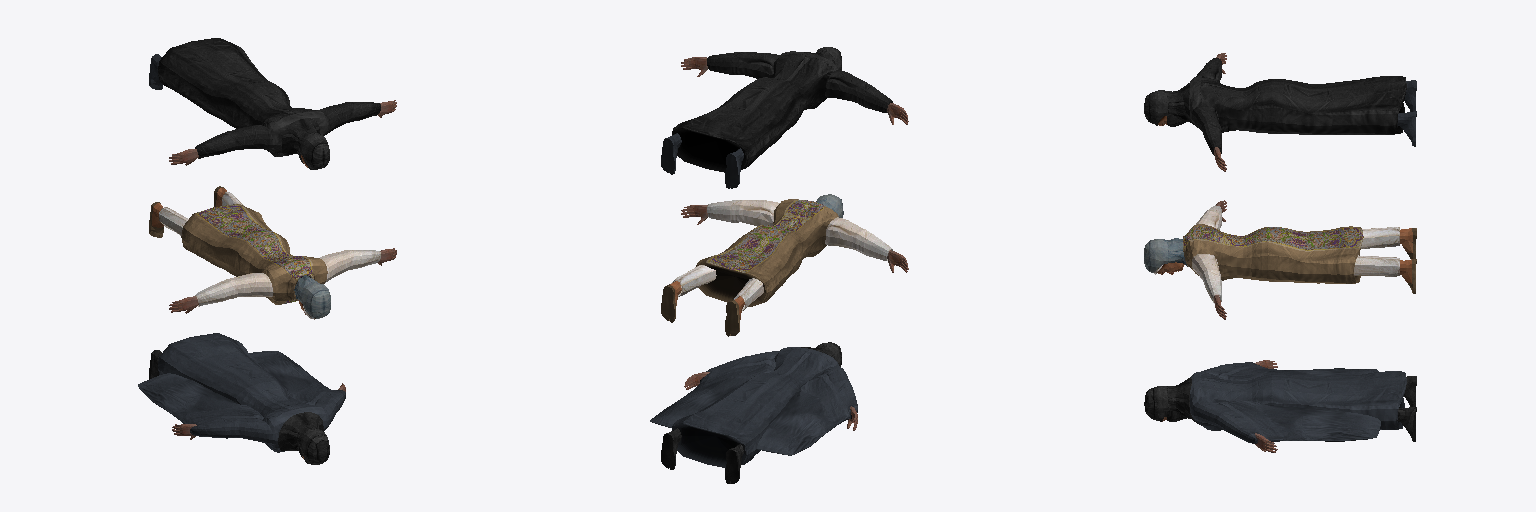
3 renders of one model, left to right at view 1: azimuth 30°, elevation 25°; view 2: azimuth 150°, elevation 25°; view 3: azimuth 270°, elevation 25°, orthographic.
Parts seen in each view (by area): view 1: Arab_Femx3_DressLonger_B_01_Arab_Fem_B_01, Arab_Femx3_Arab_Fem_C_01_BurkaArms_A_01, DressLong_A_01_Arab_Fem_A_01_Arab_Femx3, Arab_Femx3_DressLonger_B_01_Arab_Fem_C_01, Arab_Femx3_Arab_Fem_B_01_LongArms_A_02, Arab_Fem_A_01_Arab_Femx3_LongArms_A_02, Arab_Femx3_Arab_Fem_C_01_Head_Fem_Veil_C_01, Arab_Femx3_Arab_Fem_B_01_Head_Fem_Veil_A_01, Arab_Fem_A_01_Arab_Femx3_Head_Fem_Scarf_A_01, Arab_Fem_A_01_Arab_Femx3_Trouser_A_01, Arab_Fem_A_01_Arab_Femx3_Sandal_B_01, Arab_Fem_A_01_Arab_Femx3_Hands_C_02 (+1 smaller); view 2: Arab_Femx3_DressLonger_B_01_Arab_Fem_B_01, Arab_Femx3_DressLonger_B_01_Arab_Fem_C_01, Arab_Femx3_Arab_Fem_C_01_BurkaArms_A_01, DressLong_A_01_Arab_Fem_A_01_Arab_Femx3, Arab_Femx3_Arab_Fem_B_01_LongArms_A_02, Arab_Fem_A_01_Arab_Femx3_LongArms_A_02, Arab_Fem_A_01_Arab_Femx3_Trouser_A_01, Arab_Fem_A_01_Arab_Femx3_Sandal_B_01, Arab_Femx3_Arab_Fem_B_01_Sandal_C_01, Arab_Femx3_Arab_Fem_C_01_Sandal_C_01, Arab_Femx3_Arab_Fem_B_01_Hands_C_02, Arab_Fem_A_01_Arab_Femx3_Hands_C_02; view 3: Arab_Femx3_DressLonger_B_01_Arab_Fem_B_01, DressLong_A_01_Arab_Fem_A_01_Arab_Femx3, Arab_Femx3_Arab_Fem_C_01_BurkaArms_A_01, Arab_Femx3_DressLonger_B_01_Arab_Fem_C_01, Arab_Fem_A_01_Arab_Femx3_Trouser_A_01, Arab_Femx3_Arab_Fem_C_01_Head_Fem_Veil_C_01, Arab_Femx3_Arab_Fem_B_01_Head_Fem_Veil_A_01, Arab_Fem_A_01_Arab_Femx3_Head_Fem_Scarf_A_01, Arab_Fem_A_01_Arab_Femx3_LongArms_A_02, Arab_Femx3_Arab_Fem_B_01_LongArms_A_02, Arab_Fem_A_01_Arab_Femx3_Sandal_B_01, Arab_Femx3_Arab_Fem_C_01_Sandal_C_01 (+1 smaller).
Part boxes in pixels (x1,y1,x2,y2): Arab_Femx3_DressLonger_B_01_Arab_Fem_B_01: (158,38,327,156); Arab_Femx3_Arab_Fem_C_01_BurkaArms_A_01: (138,351,345,444); DressLong_A_01_Arab_Fem_A_01_Arab_Femx3: (181,204,327,304); Arab_Femx3_DressLonger_B_01_Arab_Fem_C_01: (158,333,327,452); Arab_Femx3_Arab_Fem_B_01_LongArms_A_02: (195,102,380,158); Arab_Fem_A_01_Arab_Femx3_LongArms_A_02: (195,250,380,306); Arab_Femx3_Arab_Fem_C_01_Head_Fem_Veil_C_01: (278,412,329,464); Arab_Femx3_Arab_Fem_B_01_Head_Fem_Veil_A_01: (282,118,329,169); Arab_Fem_A_01_Arab_Femx3_Head_Fem_Scarf_A_01: (294,275,330,319); Arab_Fem_A_01_Arab_Femx3_Trouser_A_01: (159,192,243,235); Arab_Fem_A_01_Arab_Femx3_Sandal_B_01: (149,186,226,237); Arab_Fem_A_01_Arab_Femx3_Hands_C_02: (169,248,396,313); Arab_Femx3_DressLonger_B_01_Arab_Fem_B_01: (672,51,838,172); Arab_Femx3_DressLonger_B_01_Arab_Fem_C_01: (672,347,838,467); Arab_Femx3_Arab_Fem_C_01_BurkaArms_A_01: (650,351,857,455); DressLong_A_01_Arab_Fem_A_01_Arab_Femx3: (696,199,838,306); Arab_Femx3_Arab_Fem_B_01_LongArms_A_02: (707,52,892,112); Arab_Fem_A_01_Arab_Femx3_LongArms_A_02: (707,200,892,260); Arab_Fem_A_01_Arab_Femx3_Trouser_A_01: (671,265,763,310); Arab_Fem_A_01_Arab_Femx3_Sandal_B_01: (661,281,744,336); Arab_Femx3_Arab_Fem_B_01_Sandal_C_01: (661,133,743,188); Arab_Femx3_Arab_Fem_C_01_Sandal_C_01: (661,428,743,483); Arab_Femx3_Arab_Fem_B_01_Hands_C_02: (681,57,908,124); Arab_Fem_A_01_Arab_Femx3_Hands_C_02: (681,205,908,272); Arab_Femx3_DressLonger_B_01_Arab_Fem_B_01: (1189,76,1406,134); DressLong_A_01_Arab_Fem_A_01_Arab_Femx3: (1183,224,1363,283); Arab_Femx3_Arab_Fem_C_01_BurkaArms_A_01: (1192,360,1380,452); Arab_Femx3_DressLonger_B_01_Arab_Fem_C_01: (1190,371,1406,430); Arab_Fem_A_01_Arab_Femx3_Trouser_A_01: (1354,227,1399,276); Arab_Femx3_Arab_Fem_C_01_Head_Fem_Veil_C_01: (1144,377,1201,425); Arab_Femx3_Arab_Fem_B_01_Head_Fem_Veil_A_01: (1144,83,1195,126); Arab_Fem_A_01_Arab_Femx3_Head_Fem_Scarf_A_01: (1144,238,1187,274); Arab_Fem_A_01_Arab_Femx3_LongArms_A_02: (1192,205,1221,303); Arab_Femx3_Arab_Fem_B_01_LongArms_A_02: (1192,58,1221,155); Arab_Fem_A_01_Arab_Femx3_Sandal_B_01: (1400,228,1416,293); Arab_Femx3_Arab_Fem_C_01_Sandal_C_01: (1397,376,1416,441).
Size of the model in its own units: 1.61 by 2.32 by 1.68.
7 materials, 7 textured.